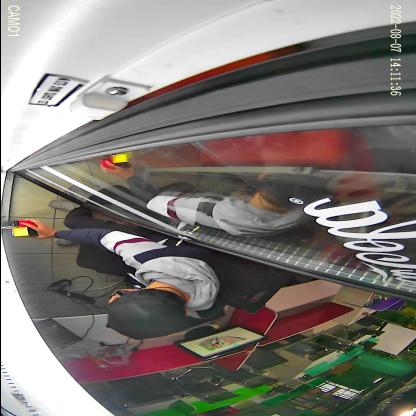red: (1, 220, 36, 230)
yellow: (10, 227, 38, 237)
